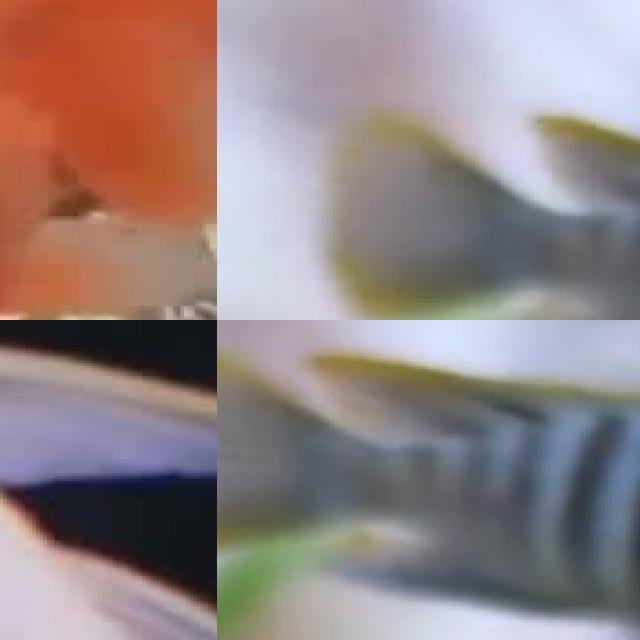fish: (0, 0, 217, 320), (0, 320, 217, 640)
